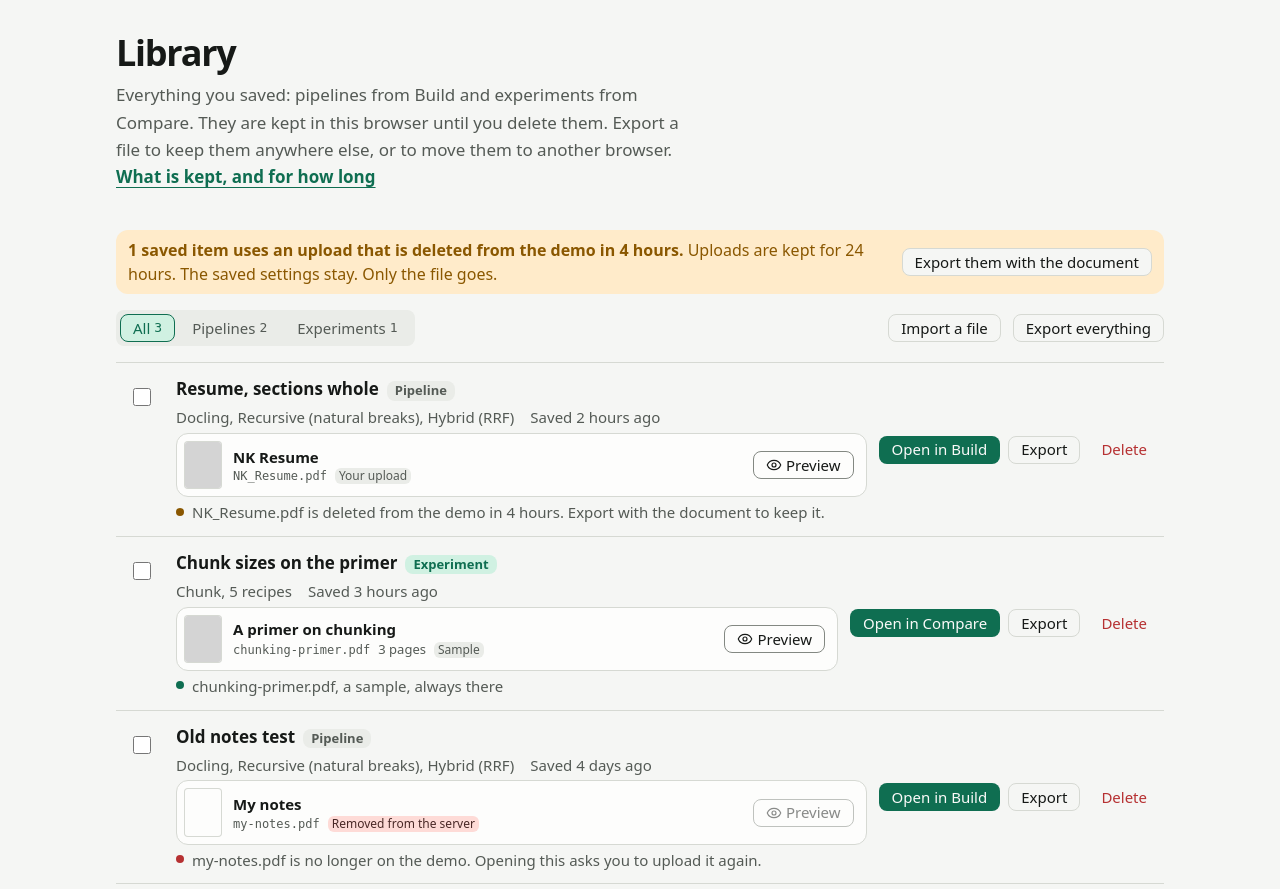
Test case: Library › states a small document's size in KB
The width and height of the screenshot is (1280, 889).
Check: the text "deleted from the demo in" is shown, box 192,502 -> 825,522
Click the button "Export" in the row of "NK Resume" at (1044, 450), box 1008,436 -> 1080,464
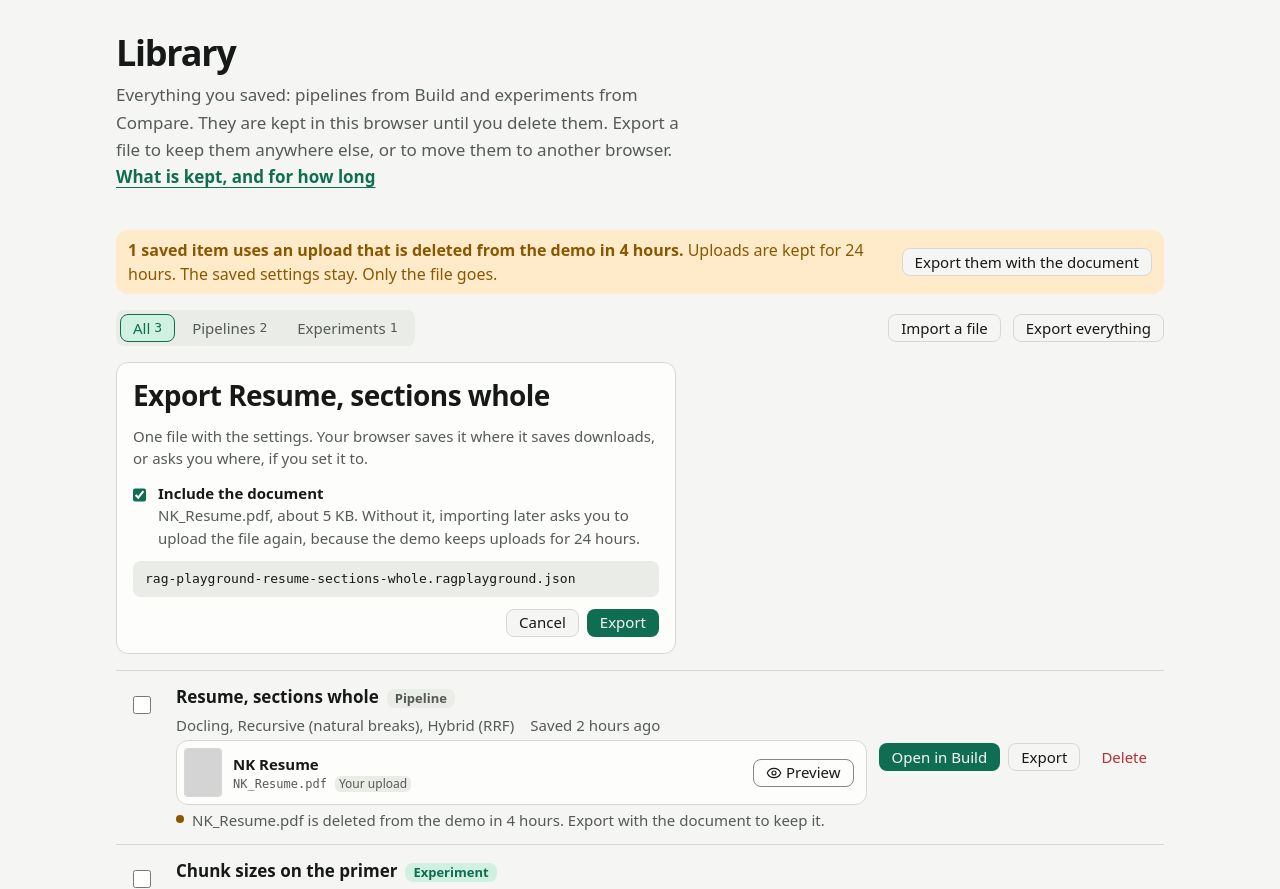
Check: the dialog "Export" shows "NK_Resume.pdf, about 5 KB.", box 116,362 -> 676,654
